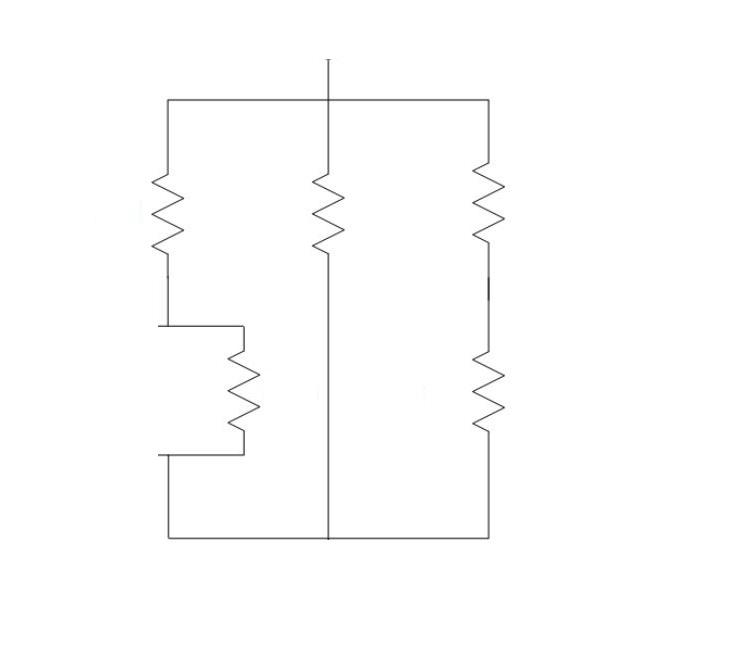resistor: (443, 329, 543, 452), (209, 320, 284, 457), (448, 130, 525, 256), (133, 151, 202, 286), (300, 146, 364, 258)
